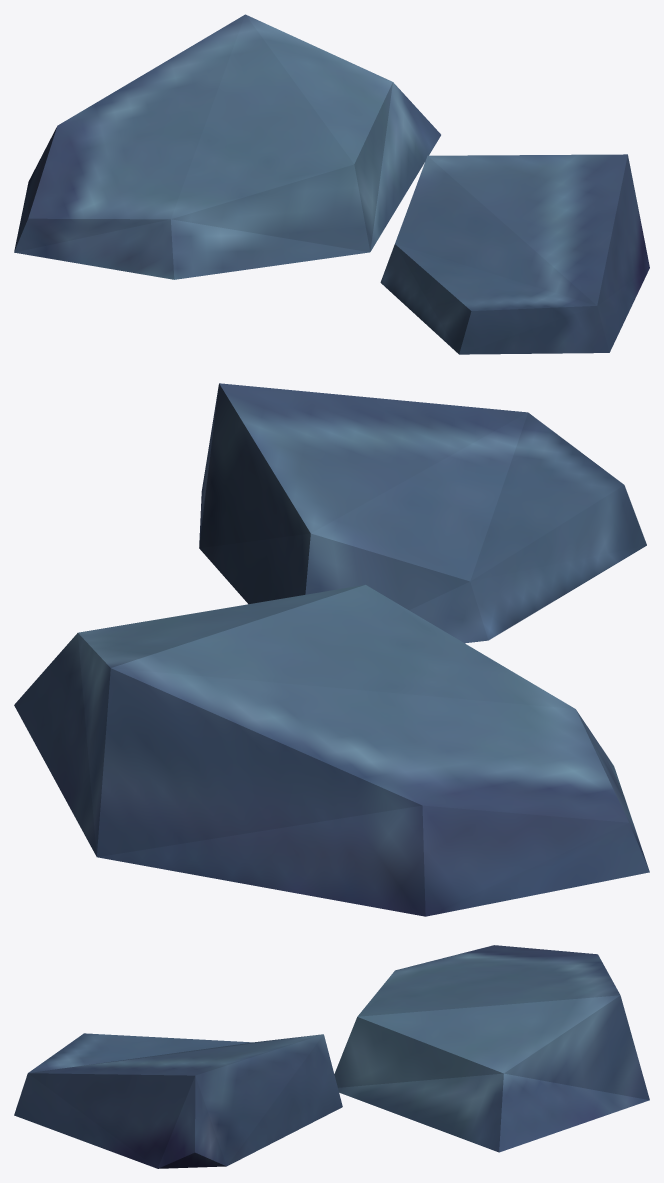
Rendered from Area09_24.fbx.
3 views of the same model, one above another, from view 1: azimuth 30°, elevation 25°; view 2: azimuth 150°, elevation 25°; view 3: azimuth 270°, elevation 25° (orthographic). The views are drawn at different scales.
Parts seen in each view (by area): view 1: Area09_24; view 2: Area09_24; view 3: Area09_24.
Boxes of the visible parts, box(x1,y1,x2,y2) form: Area09_24: box(14, 14, 649, 354); Area09_24: box(14, 383, 649, 916); Area09_24: box(14, 945, 649, 1168).
Size of the model in its own units: 311 by 73.8 by 395.
Materials: 1 (1 with a texture image).
